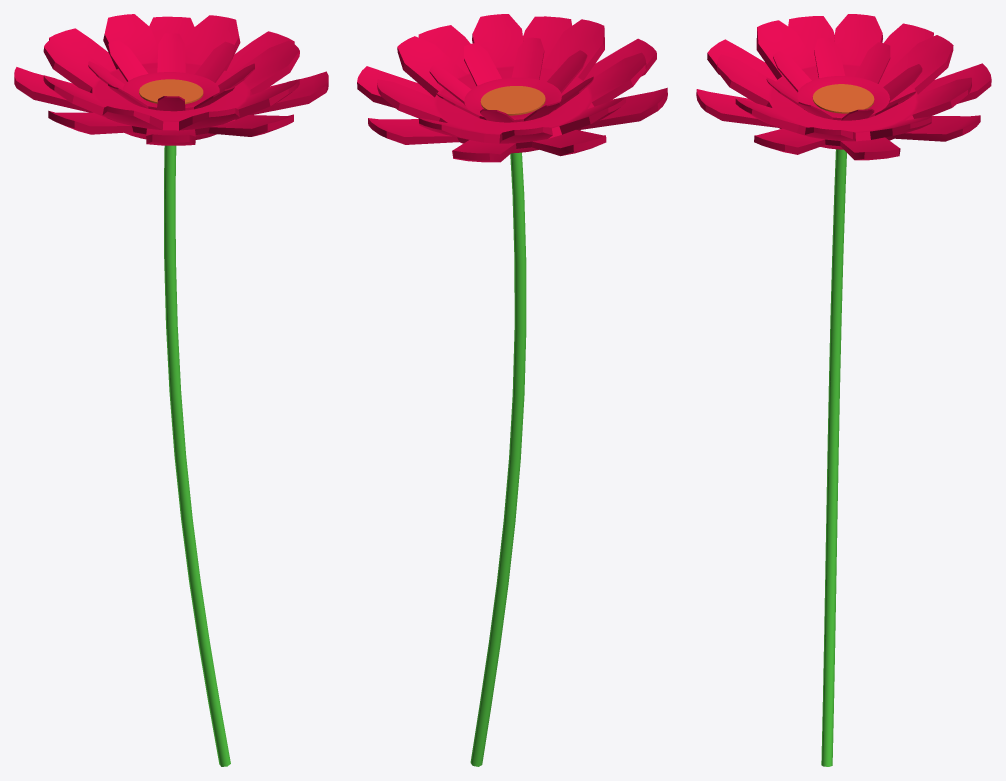
Rendered from flower low.fbx.
The picture shows the model from 3 angles, left to right: view 1: azimuth 30°, elevation 25°; view 2: azimuth 150°, elevation 25°; view 3: azimuth 270°, elevation 25°; orthographic projection. The views are drawn at different scales.
Parts seen in each view (by area): view 1: flower base; view 2: flower base; view 3: flower base.
Part boxes in pixels (x1=…): flower base: x1=14, y1=14, x2=328, y2=766; flower base: x1=357, y1=14, x2=667, y2=766; flower base: x1=696, y1=14, x2=991, y2=766.
Bounding box in the file's own units: 0.3903 × 0.9915 × 0.3903.
